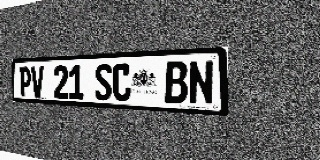1: (68, 65, 84, 99)
2: (54, 65, 68, 99)
B: (165, 61, 188, 104)
C: (112, 63, 131, 102)
N: (189, 60, 214, 106)
P: (19, 66, 31, 97)
S: (95, 64, 112, 101)
V: (31, 66, 44, 97)
